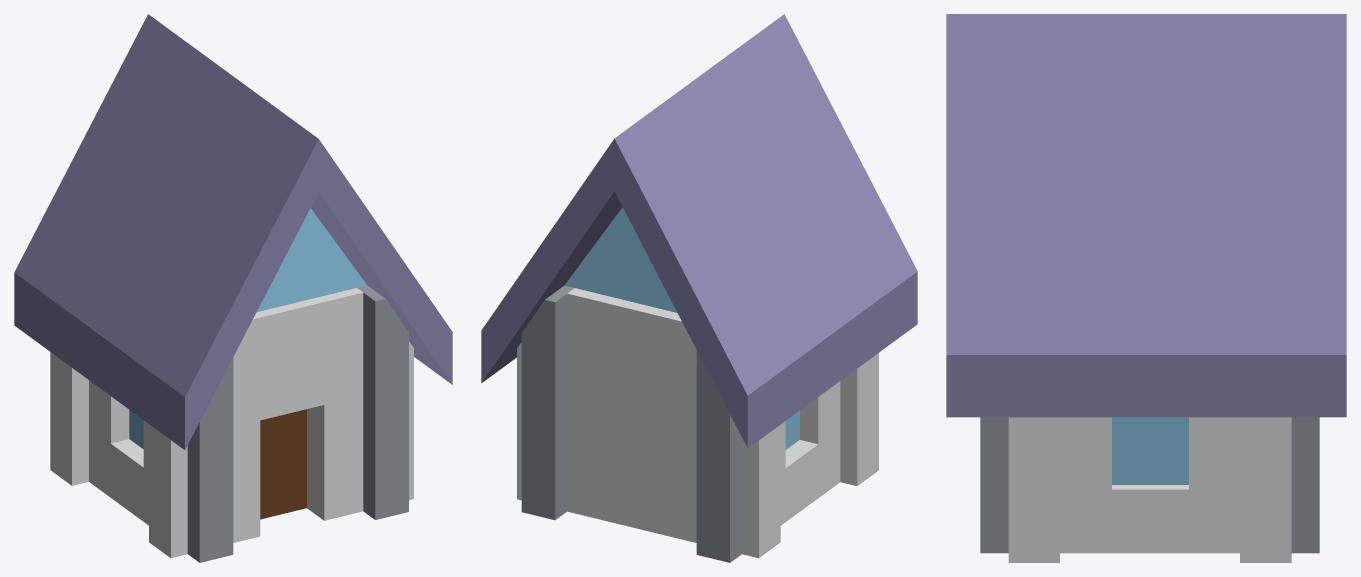
3 views of the same model, side by side, from view 1: azimuth 30°, elevation 25°; view 2: azimuth 150°, elevation 25°; view 3: azimuth 270°, elevation 25° (orthographic). The views are drawn at different scales.
Parts seen in each view (by area): view 1: Ev_9; view 2: Ev_9; view 3: Ev_9.
Part boxes in pixels (x1,y1,x2,y2): Ev_9: (14,14,452,562); Ev_9: (481,14,917,562); Ev_9: (946,14,1346,562).
Size of the model in its own units: 433 by 633 by 478.
